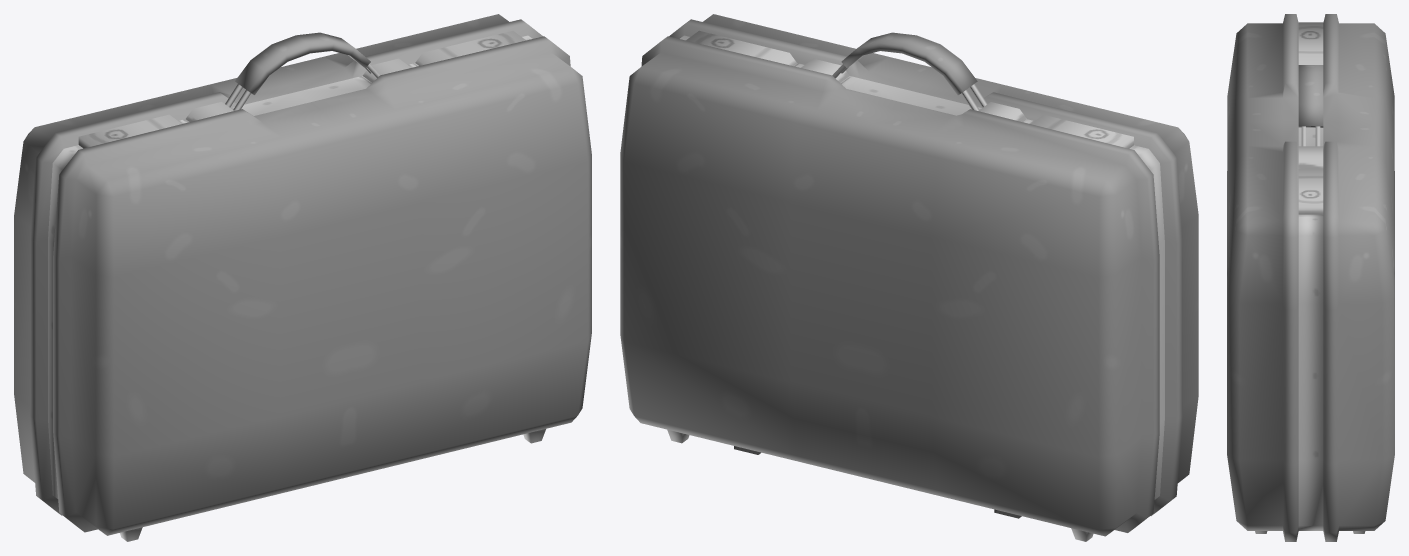
The model's file is obj_Suitcase4.fbx.
3 views of the same model, side by side, from view 1: azimuth 30°, elevation 25°; view 2: azimuth 150°, elevation 25°; view 3: azimuth 270°, elevation 25° (orthographic). The views are drawn at different scales.
Parts seen in each view (by area): view 1: obj_Suitcase4; view 2: obj_Suitcase4; view 3: obj_Suitcase4.
Part boxes in pixels (x1,y1,x2,y2): obj_Suitcase4: (14, 14, 591, 541); obj_Suitcase4: (620, 14, 1198, 541); obj_Suitcase4: (1227, 14, 1394, 541).
Bounding box in the file's own units: 0.6979 × 0.5524 × 0.225.
Materials: 1 (1 with a texture image).
